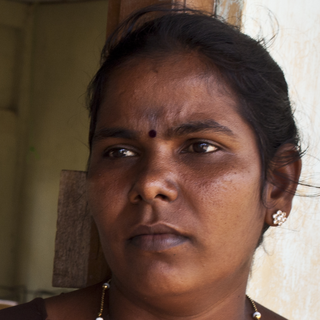eye: (175, 134, 228, 162), (97, 142, 143, 166)
